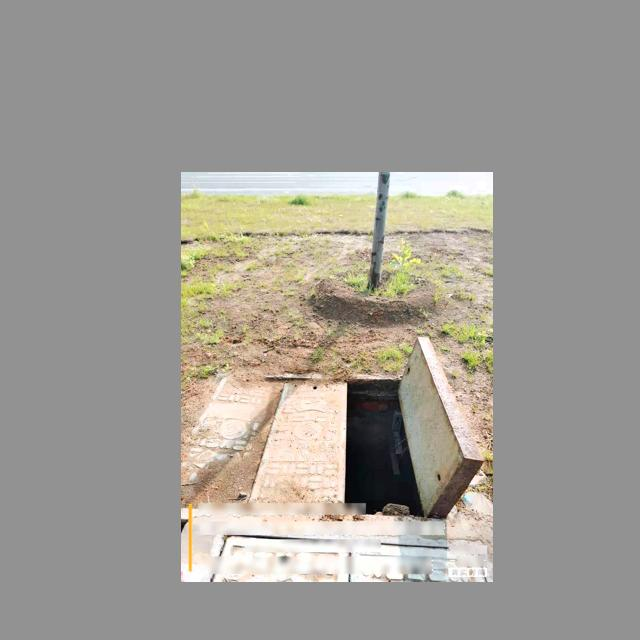uncovered: (183, 339, 489, 532)
